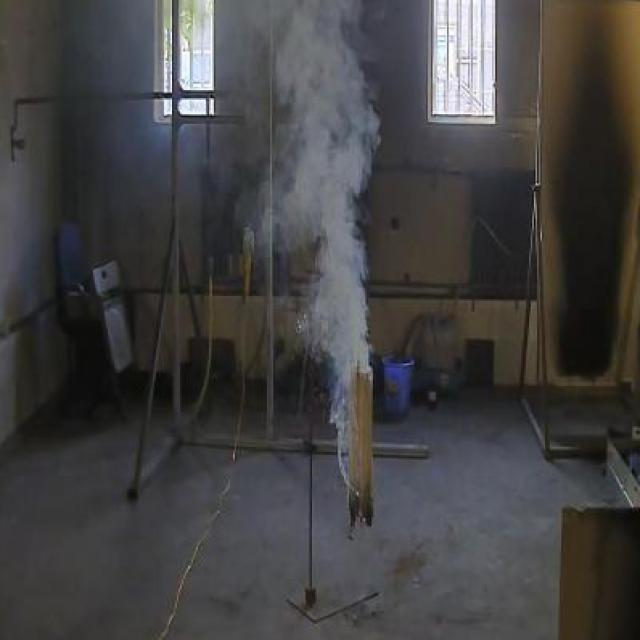fire: (254, 0, 385, 355)
